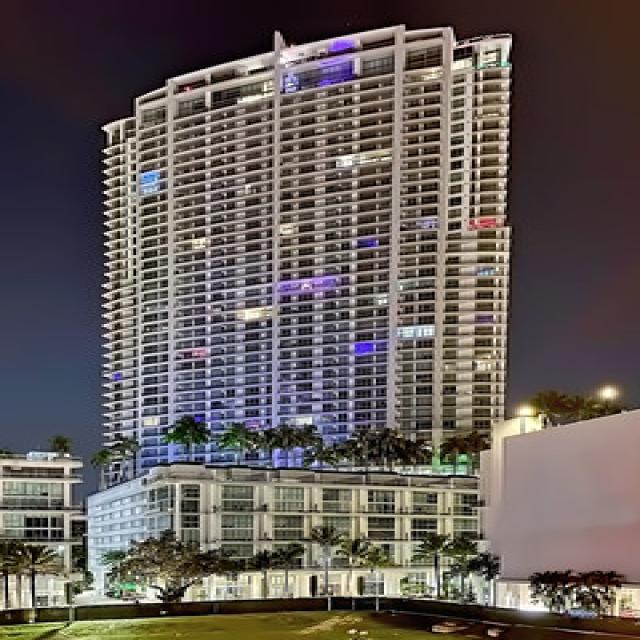building: (60, 21, 524, 608)
